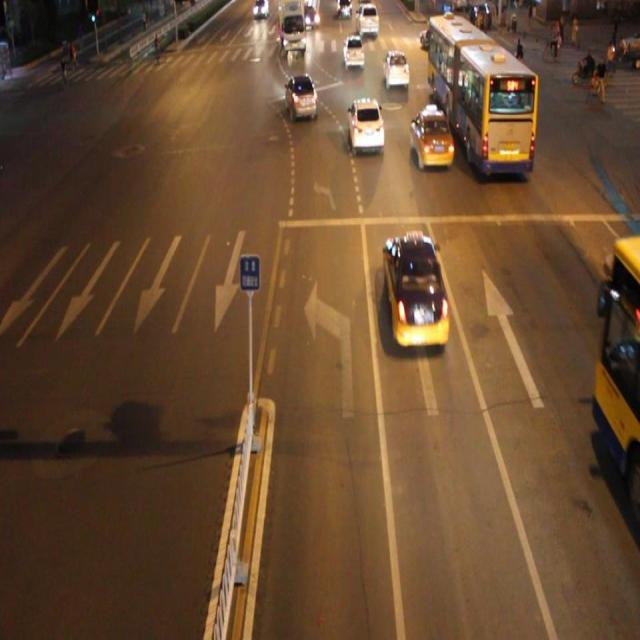car: (385, 232, 447, 346), (409, 107, 453, 168), (348, 98, 384, 151), (284, 72, 318, 122), (383, 51, 409, 88)
van: (428, 15, 533, 176), (589, 238, 640, 508)
